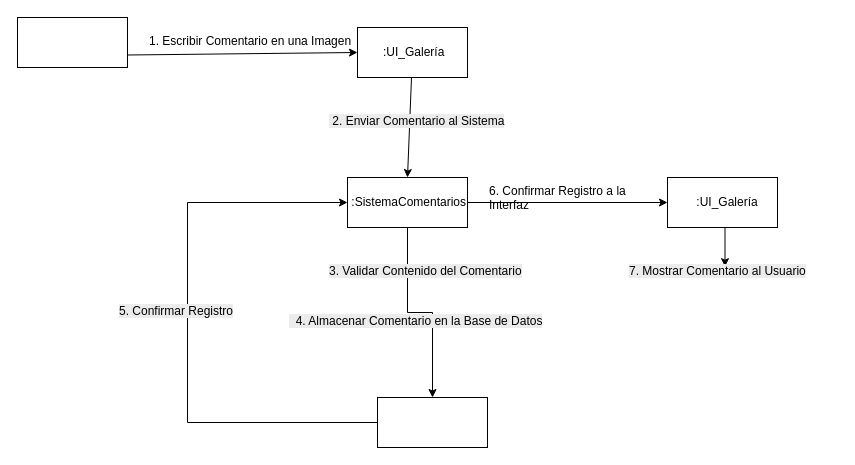
Some shapes in this 855 by 465 pixel diagram are drawn without their labels. Here are the shapes that lost their labels. From the top down, the centre of each, then its label:
point 72,42: :Usuario
point 432,422: :BD_Comentarios
